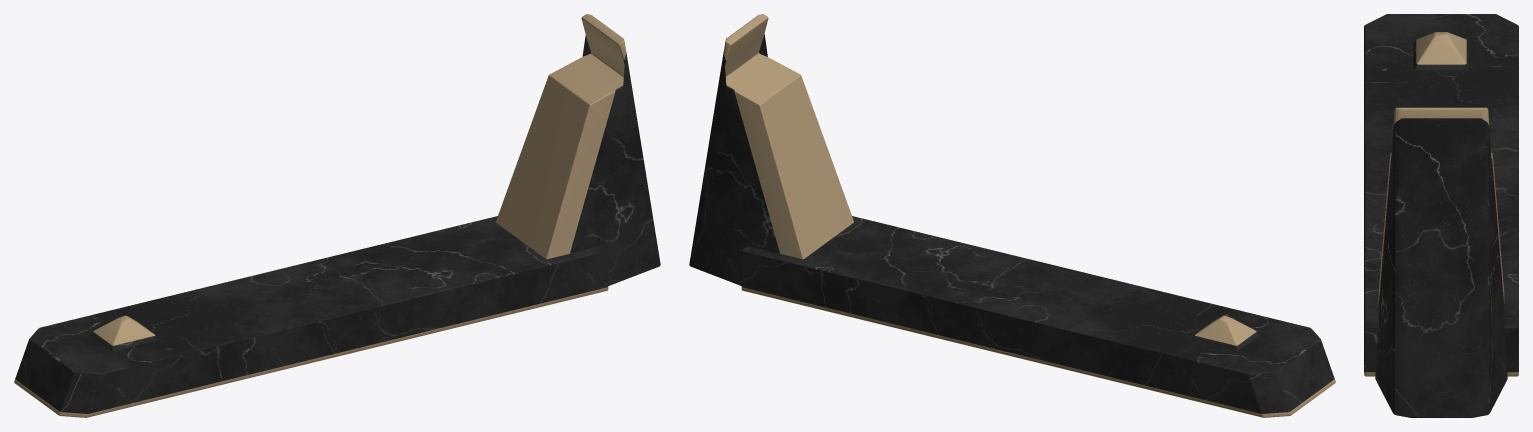
Rendered from NORECTIA_PenStand.fbx.
The picture shows the model from 3 angles, left to right: view 1: azimuth 30°, elevation 25°; view 2: azimuth 150°, elevation 25°; view 3: azimuth 270°, elevation 25°; orthographic projection. The views are drawn at different scales.
Visible parts, largest first — view 1: Stand_Base, Stand_Rear, Stand_Front; view 2: Stand_Base, Stand_Rear, Stand_Front; view 3: Stand_Rear, Stand_Base, Stand_Front.
Part boxes in pixels (<box>): Stand_Base: <box>14,216,608,417</box>; Stand_Rear: <box>496,14,660,285</box>; Stand_Front: <box>90,315,158,350</box>; Stand_Base: <box>741,216,1335,417</box>; Stand_Rear: <box>689,14,853,285</box>; Stand_Front: <box>1191,315,1259,350</box>; Stand_Rear: <box>1375,107,1507,417</box>; Stand_Base: <box>1364,14,1518,376</box>; Stand_Front: <box>1413,32,1469,70</box>.
Size of the model in its own units: 0.3892 by 0.1429 by 0.07.
2 materials, 1 textured.
